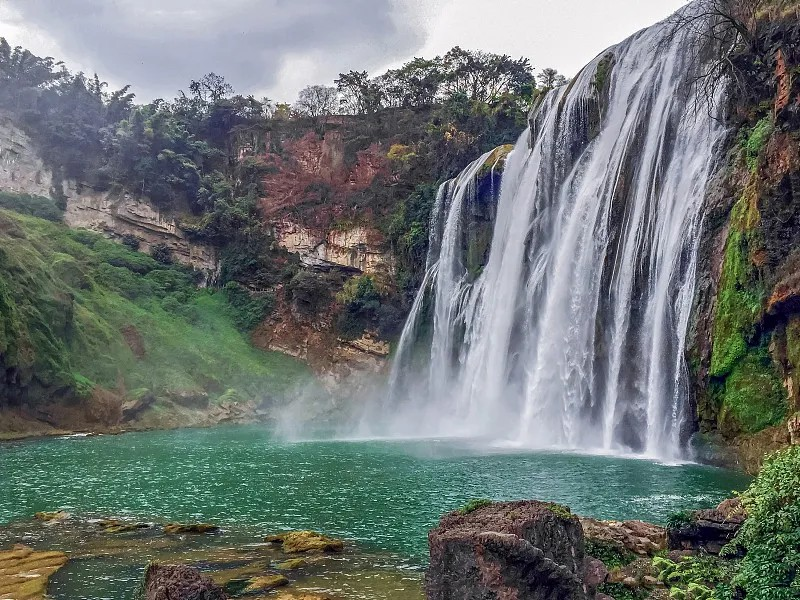Huangguoshu: (391, 2, 721, 466)
